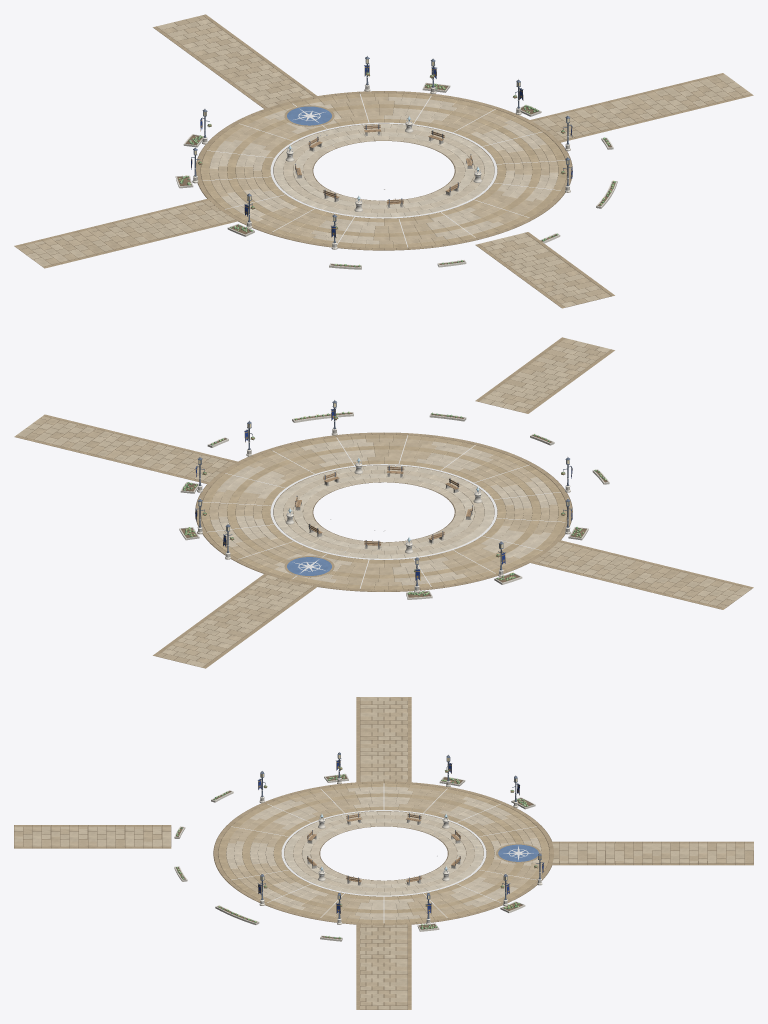
File: plaza_hq.glb
3 views of the same model, one above another, from view 1: azimuth 30°, elevation 25°; view 2: azimuth 150°, elevation 25°; view 3: azimuth 270°, elevation 25° (orthographic). The views are drawn at different scales.
Visible parts, largest first — view 1: Plaza_paving, Plaza_props, Plaza_gold; view 2: Plaza_paving, Plaza_props, Plaza_gold; view 3: Plaza_paving, Plaza_props, Plaza_gold.
Part boxes in pixels (<box>): Plaza_paving: <box>14,14,753,308</box>; Plaza_props: <box>175,56,617,269</box>; Plaza_gold: <box>194,55,568,247</box>; Plaza_paving: <box>14,337,753,668</box>; Plaza_props: <box>179,400,609,599</box>; Plaza_gold: <box>199,399,568,588</box>; Plaza_paving: <box>14,697,753,1009</box>; Plaza_props: <box>174,752,544,941</box>; Plaza_gold: <box>231,751,540,922</box>.
Bounding box in the file's own units: 80 × 3.81 × 80.
Materials: 5 (2 with a texture image).
